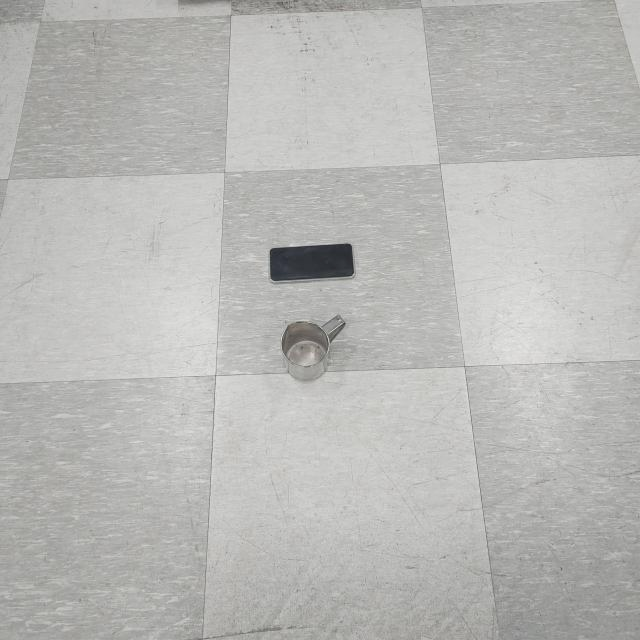cup: (281, 313, 348, 382)
phone: (269, 241, 354, 283)
